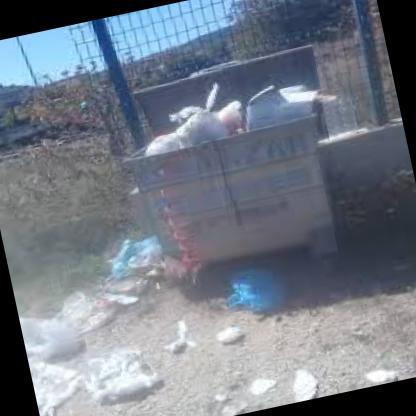Garbage: (152, 72, 324, 148), (216, 259, 311, 337), (90, 344, 174, 415), (42, 276, 132, 334), (166, 77, 236, 150), (233, 359, 324, 412), (21, 316, 104, 368), (244, 74, 322, 128), (27, 351, 80, 415), (110, 226, 162, 278), (144, 316, 194, 361), (205, 327, 247, 356), (142, 128, 182, 156), (363, 363, 404, 385)
